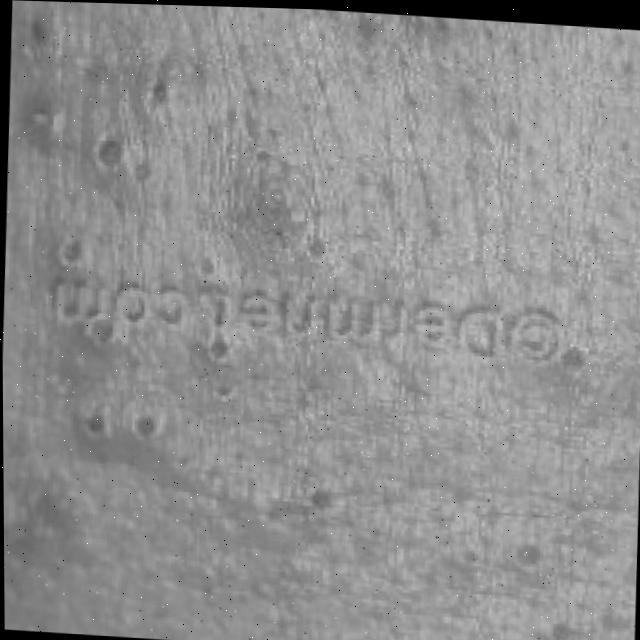Acne: (0, 0, 462, 515)
